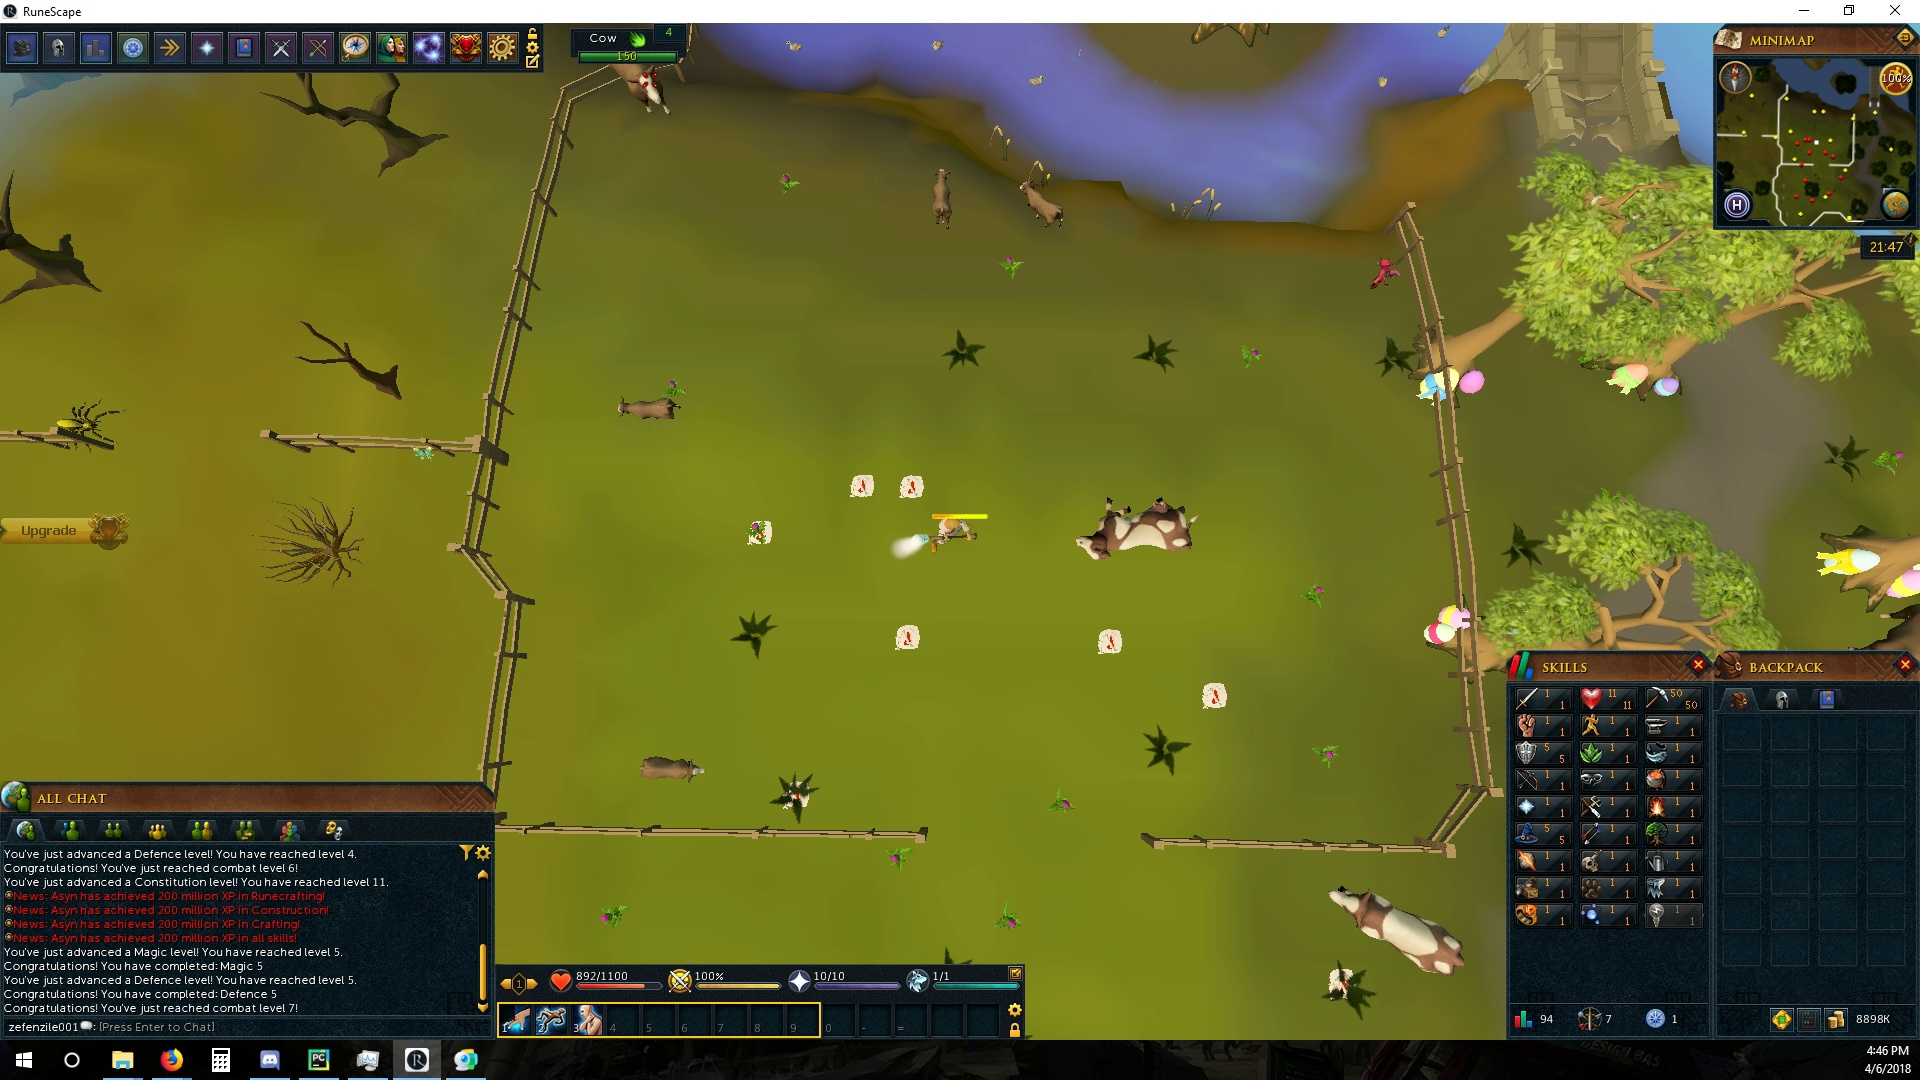calf: (1015, 175, 1069, 232), (636, 756, 711, 787), (617, 396, 687, 425), (931, 167, 955, 228)
cow: (1324, 880, 1473, 978), (1073, 495, 1203, 560), (607, 63, 674, 121)
cow_drop: (1324, 961, 1354, 1000), (1095, 624, 1124, 657), (848, 471, 880, 500), (891, 622, 923, 651), (745, 518, 774, 547), (1201, 680, 1229, 711), (898, 473, 924, 502)
